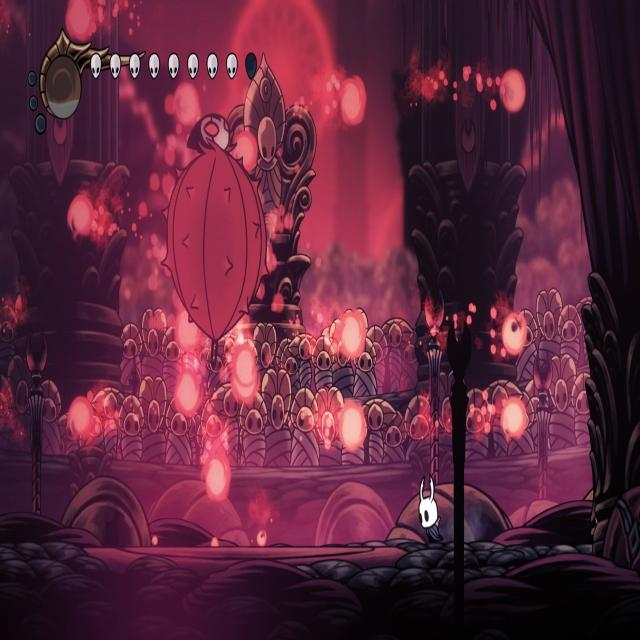Player: (417, 472, 445, 548)
Pufferfish: (158, 110, 274, 366)
Tiny Fireballs: (167, 82, 201, 130), (231, 346, 259, 404), (339, 402, 367, 452), (173, 369, 201, 416), (65, 0, 94, 44), (341, 76, 366, 126), (204, 455, 230, 502), (67, 192, 93, 238), (341, 312, 366, 359), (502, 70, 527, 115), (502, 398, 528, 440), (68, 396, 93, 439), (175, 307, 199, 351), (502, 311, 525, 355), (234, 129, 258, 171)
